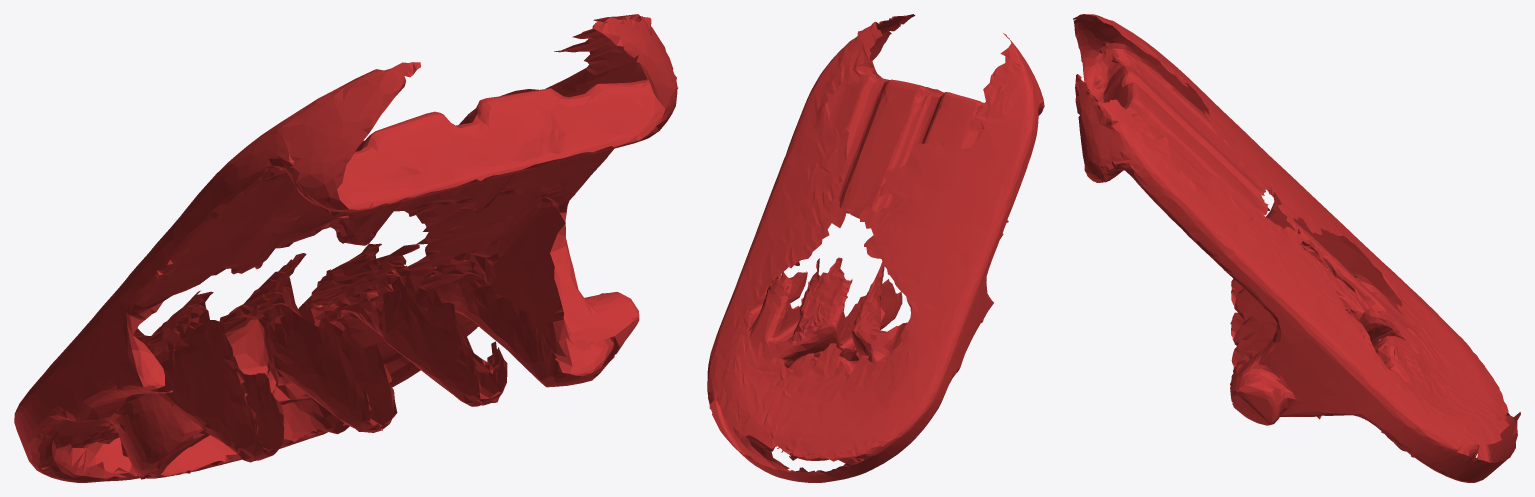
The model's file is scan.glb.
The picture shows the model from 3 angles, left to right: view 1: azimuth 30°, elevation 25°; view 2: azimuth 150°, elevation 25°; view 3: azimuth 270°, elevation 25°; orthographic projection. The views are drawn at different scales.
Visible parts, largest first — view 1: 3MFMeshParent_0; view 2: 3MFMeshParent_0; view 3: 3MFMeshParent_0.
Boxes of the visible parts, x1,y1,x2,y2 form: 3MFMeshParent_0: (14, 14, 678, 482); 3MFMeshParent_0: (707, 14, 1044, 482); 3MFMeshParent_0: (1073, 14, 1520, 482).
Bounding box in the file's own units: 27.38 × 36.1 × 35.14.
